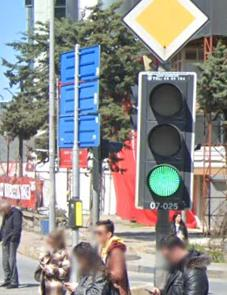greenlight: (133, 64, 198, 213)
